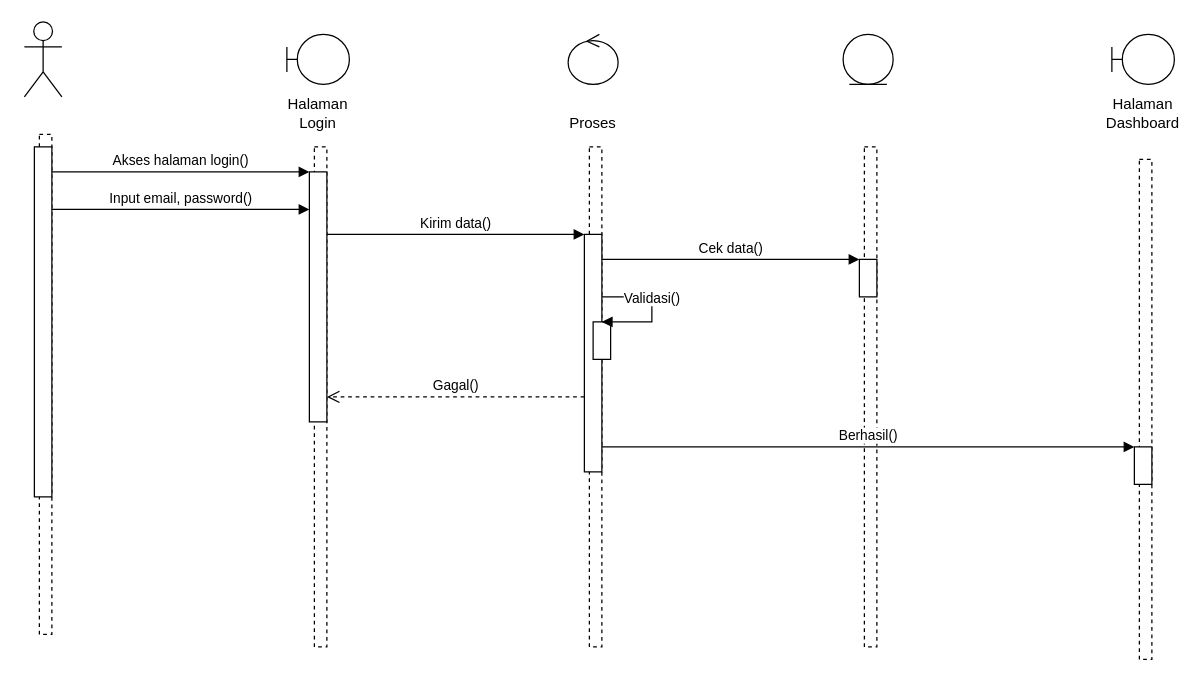
This 1201x681 diagram has some shape labels left out. Here are the shapes that lost their labels. From the top down, the box of each, then its label:
(23, 21, 62, 97): Admin
(842, 33, 893, 84): Tabel Users
